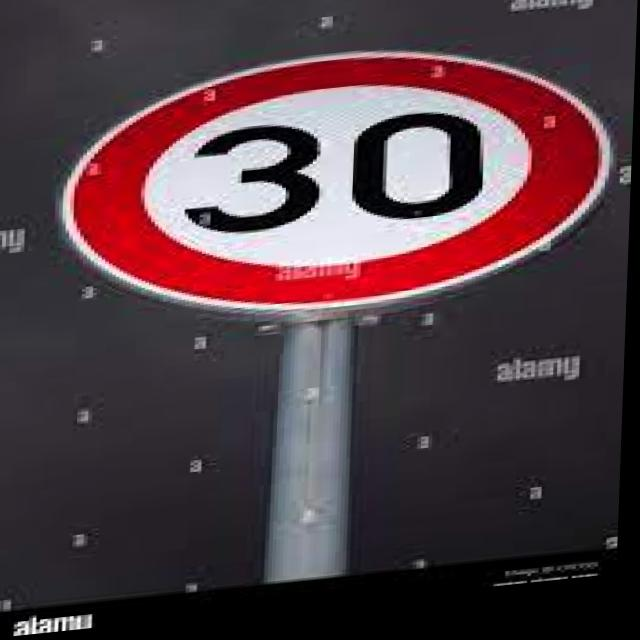SPEED_LIMIT_30: (54, 33, 631, 354)
